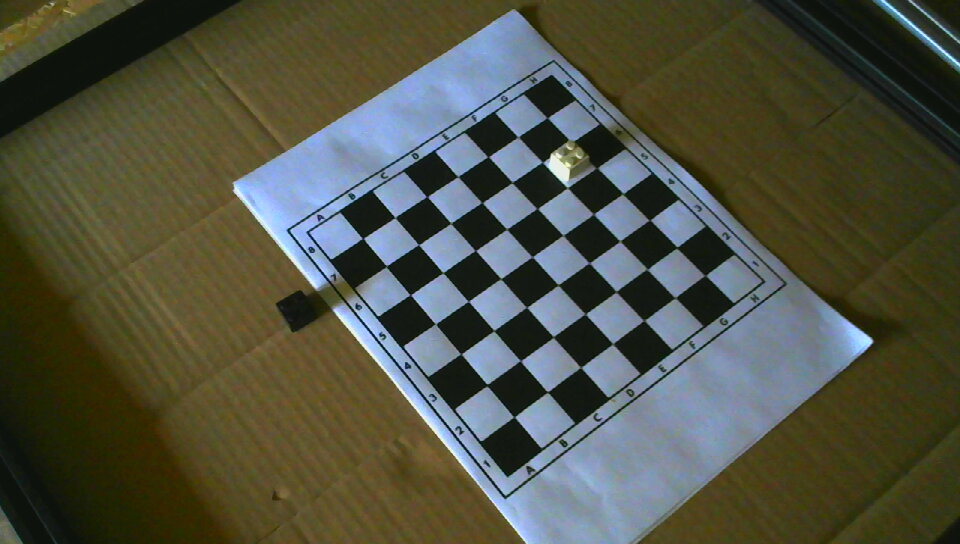bp: (275, 289, 317, 332)
wp: (550, 140, 590, 182)
